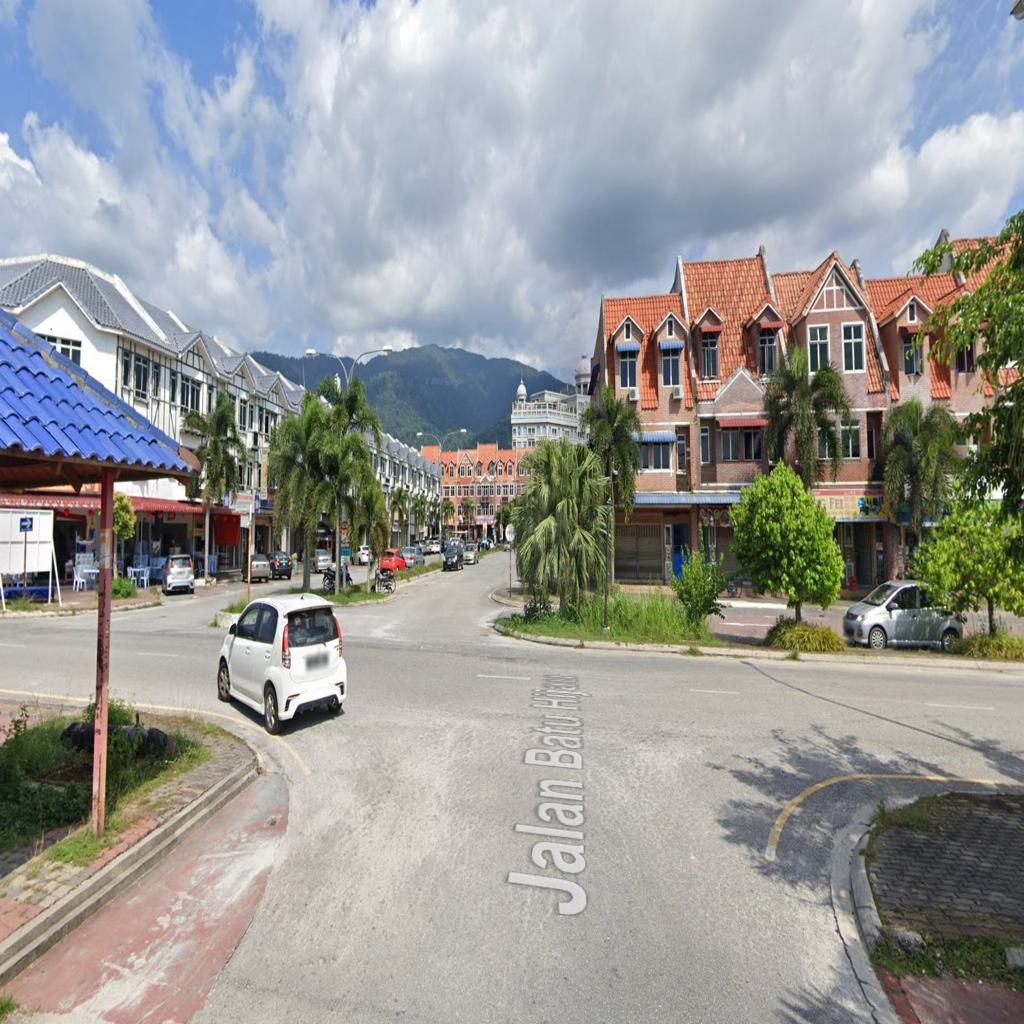Junction: (3, 583, 407, 801), (737, 623, 1021, 908)
